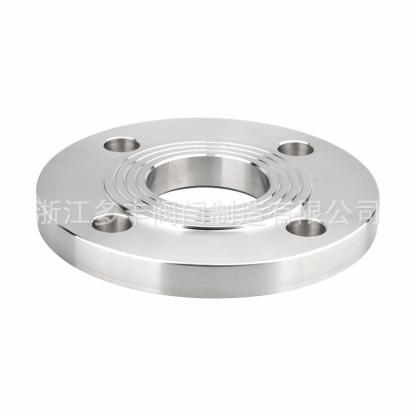FOD: (32, 109, 387, 306)
